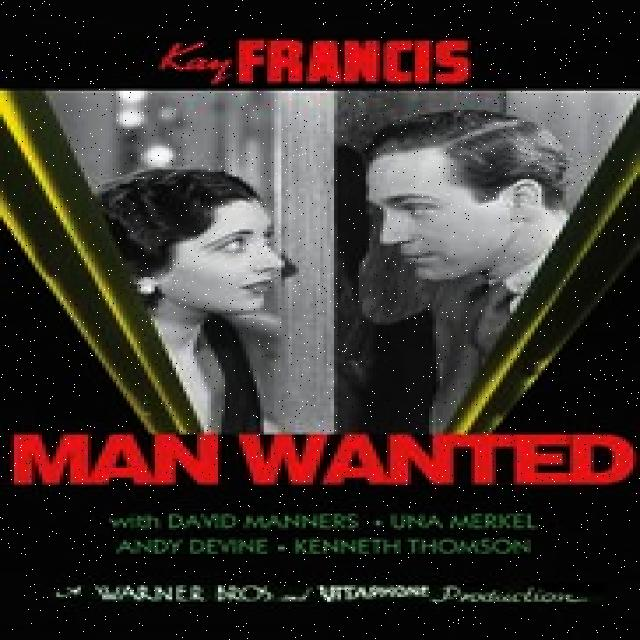movie-judul: (2, 431, 640, 495), (85, 506, 560, 570), (34, 581, 593, 623), (139, 35, 512, 82)
picture: (0, 93, 640, 431)
